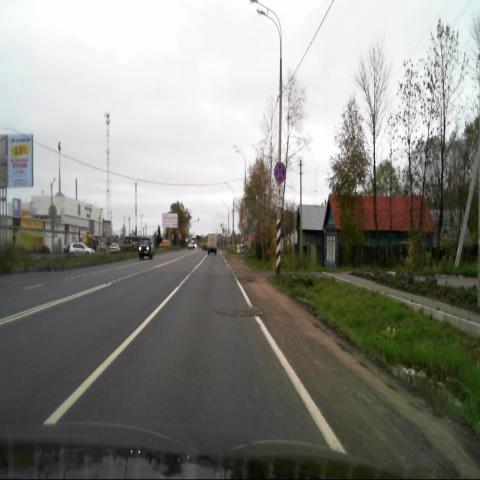3_27: (274, 162, 286, 184)
8_2_2: (276, 185, 282, 207)
